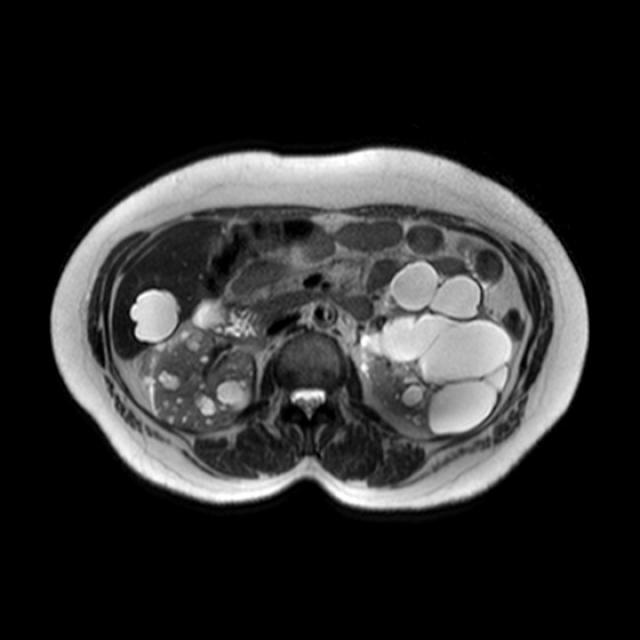sag: (140, 299, 263, 432)
sol: (359, 259, 512, 437)
